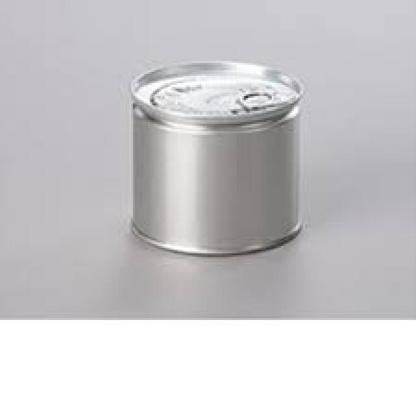Can: (128, 60, 307, 259)
